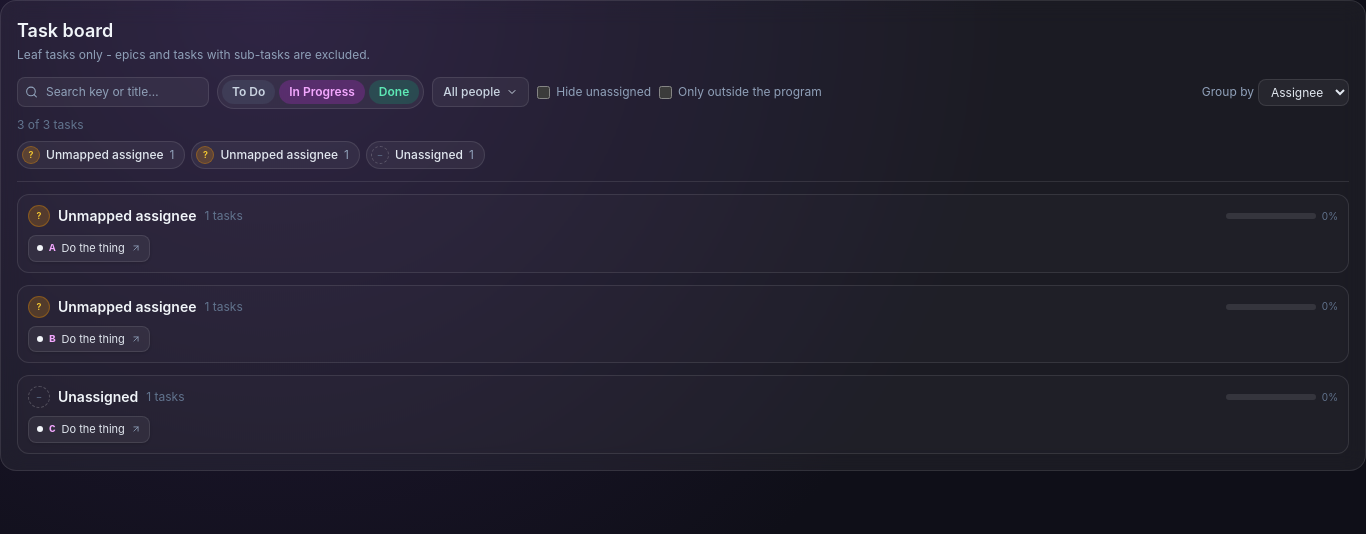
Test: AtlasTaskBoard › resolves an assignee's name from the Atlas roster, and falls back to Unmapped/Unassigned
The width and height of the screenshot is (1366, 534).
Step 1. Select "Status" in the dropdown named "Group tasks by" → (1304, 92), box [1258, 78, 1349, 106]
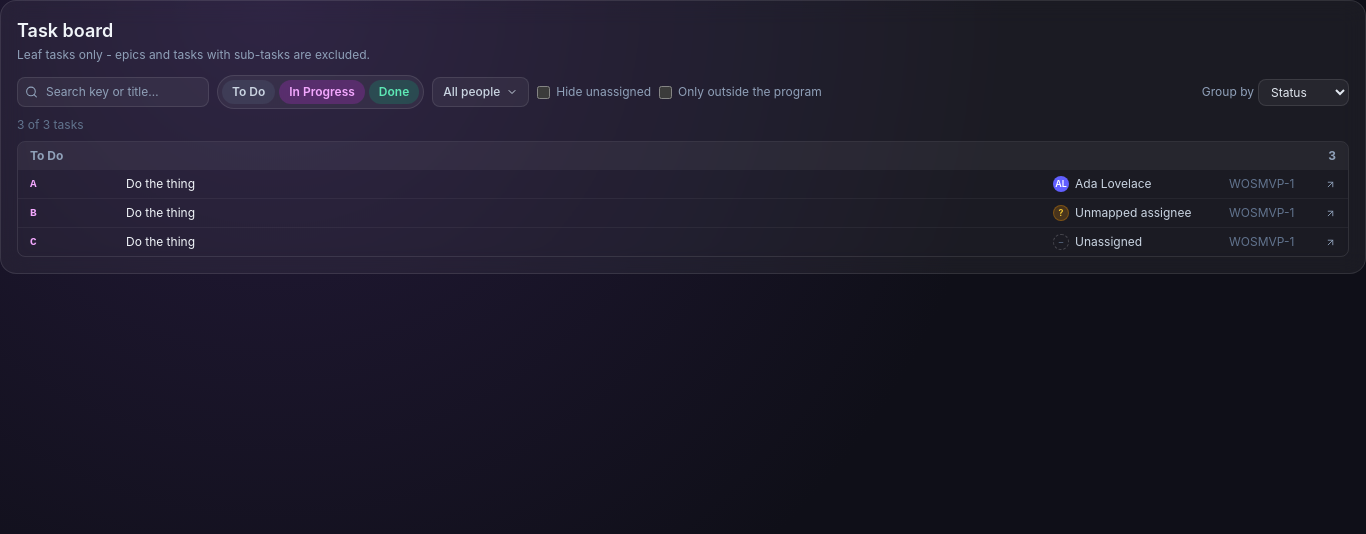
Expected: the text "Unmapped assignee" is shown, [1075, 205, 1191, 221]
Expected: the text "Ada Lovelace" is shown, [1075, 176, 1152, 192]
